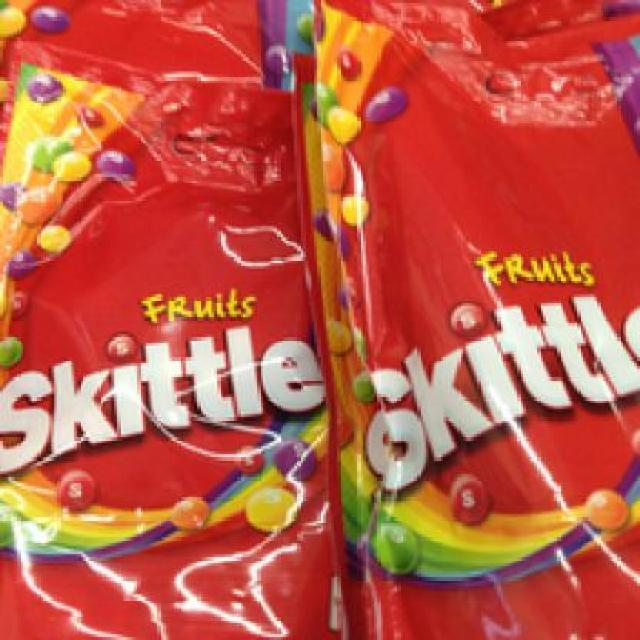Candy: (302, 9, 638, 632), (6, 57, 328, 637)
